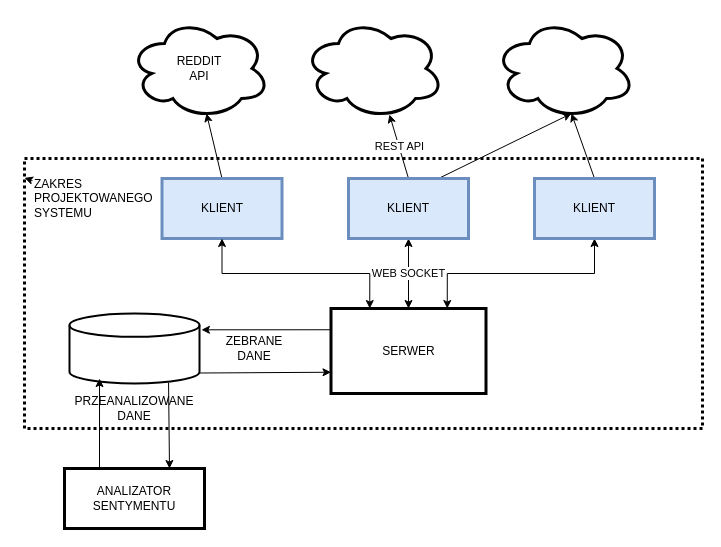
Image size: 721x547. Some labels were removed from this diagram. Each missing label, with the centre of its shape:
BAZA DANYCH: the point at 134,348
PUSHSHIFT.IO API: the point at 373,68
TWITTER API: the point at 564,68
